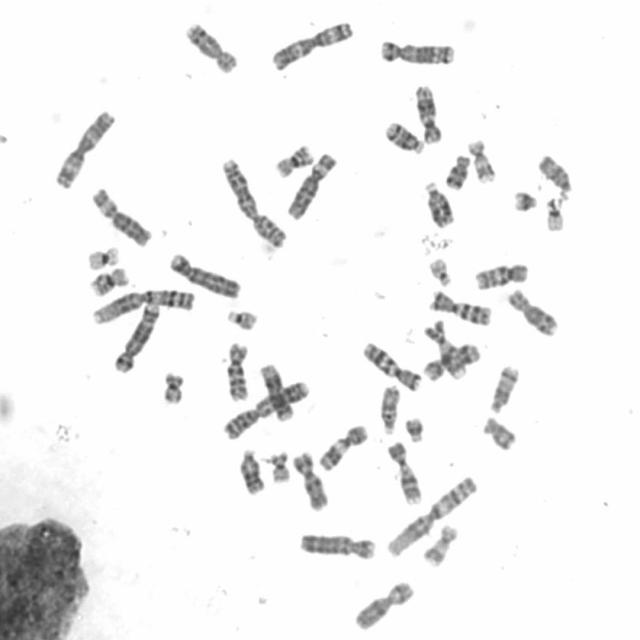A1: (383, 472, 479, 558), (89, 284, 197, 327)
A2: (218, 154, 288, 250), (220, 377, 311, 441)
A3: (51, 106, 118, 190), (268, 18, 356, 72)
B4: (166, 250, 242, 300), (295, 529, 378, 561)
B5: (111, 298, 161, 374), (376, 36, 456, 67)
C10: (223, 338, 251, 403), (471, 260, 528, 291)
C11: (316, 420, 369, 473), (421, 342, 482, 384)
C12: (257, 360, 295, 422), (412, 82, 443, 145)
C6: (88, 183, 153, 248), (284, 150, 338, 221)
C7: (359, 337, 423, 392), (427, 286, 493, 327)
C8: (183, 19, 239, 75), (505, 286, 560, 339)
C9: (421, 320, 467, 381), (385, 438, 424, 506)
D13: (421, 178, 455, 230), (236, 445, 266, 496)
D14: (487, 362, 520, 415), (382, 118, 426, 156)
D15: (534, 150, 574, 194), (378, 382, 400, 436)
E16: (272, 142, 314, 178), (88, 264, 130, 298)
E17: (419, 521, 458, 567), (464, 137, 498, 184)
E18: (481, 412, 517, 453), (442, 152, 472, 192)
F19: (84, 243, 120, 272), (543, 196, 566, 234)
F20: (160, 369, 186, 405), (269, 450, 290, 484)
G21: (511, 188, 539, 214), (402, 414, 426, 444)
G22: (222, 305, 258, 333), (427, 255, 453, 288)
X: (350, 576, 417, 633), (290, 448, 330, 511)
